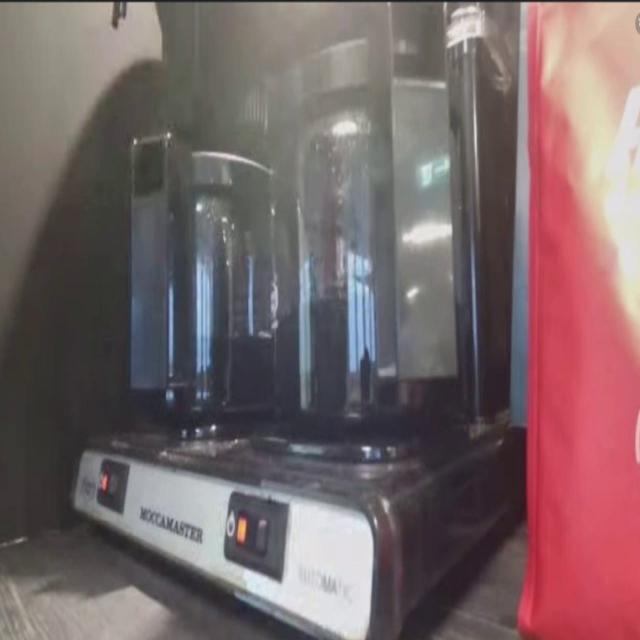coffee: (266, 45, 488, 433), (128, 119, 287, 429)
